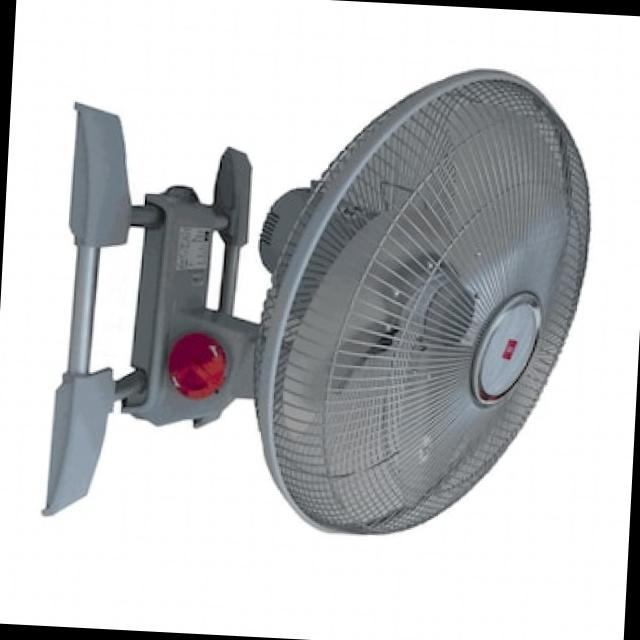fan: (14, 10, 609, 599)
